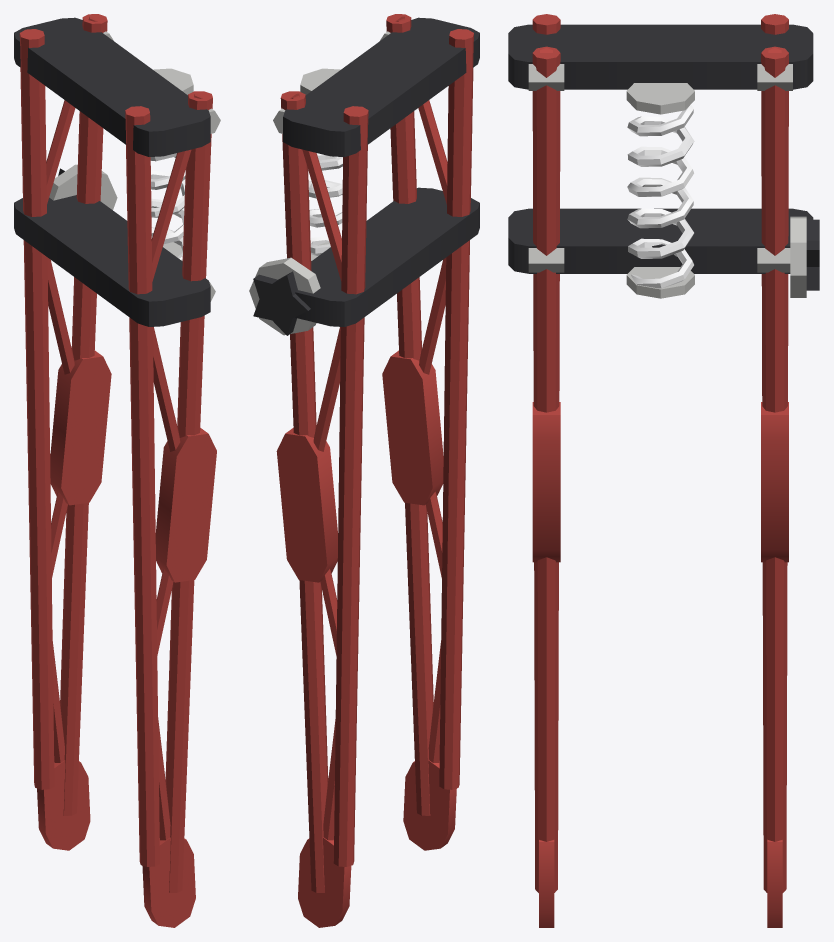
The model's file is girder_vintage_upper_lod1.glb.
3 views of the same model, side by side, from view 1: azimuth 30°, elevation 25°; view 2: azimuth 150°, elevation 25°; view 3: azimuth 270°, elevation 25° (orthographic). The views are drawn at different scales.
Visible parts, largest first — view 1: girder_vintage_upper_lod1; view 2: girder_vintage_upper_lod1; view 3: girder_vintage_upper_lod1.
Boxes of the visible parts, box(x1,y1,x2,y2) form: girder_vintage_upper_lod1: box(14, 14, 220, 927); girder_vintage_upper_lod1: box(249, 14, 479, 927); girder_vintage_upper_lod1: box(508, 14, 819, 927).
Bounding box in the file's own units: 0.115 × 0.7759 × 0.245.
